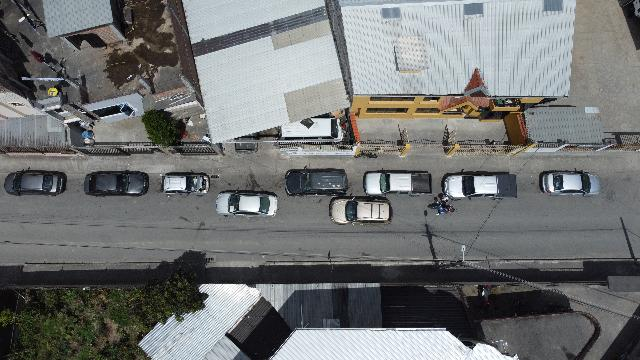Vehiculo: (441, 172, 517, 200), (284, 166, 348, 196), (329, 195, 393, 225), (364, 170, 432, 196), (4, 168, 66, 196), (216, 189, 276, 217), (84, 171, 148, 197), (538, 170, 600, 196), (160, 172, 210, 196)
